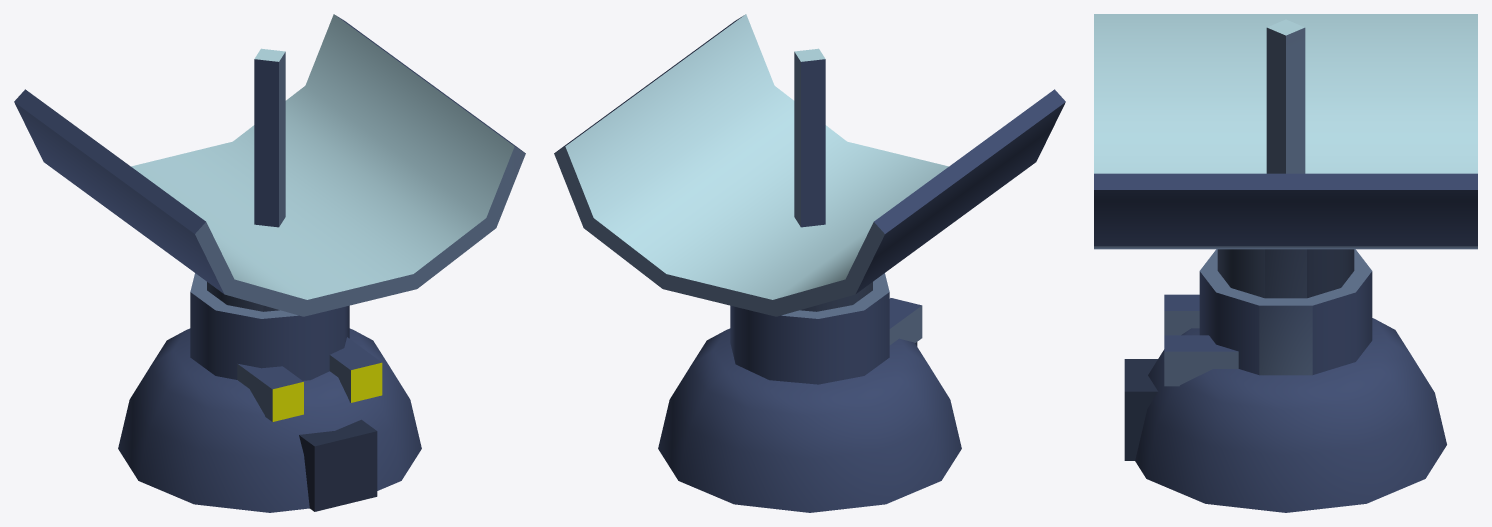
Rendered from Lab.SilverClaw.glb.
3 renders of one model, left to right at view 1: azimuth 30°, elevation 25°; view 2: azimuth 150°, elevation 25°; view 3: azimuth 270°, elevation 25°, orthographic. The views are drawn at different scales.
Parts seen in each view (by area): view 1: Lab.SilverClaw; view 2: Lab.SilverClaw; view 3: Lab.SilverClaw.
Part boxes in pixels (box(x1,y1,x2,y2)): Lab.SilverClaw: box(14, 14, 525, 512); Lab.SilverClaw: box(554, 14, 1065, 512); Lab.SilverClaw: box(1094, 14, 1477, 512).
Size of the model in its own units: 2.11 by 2.41 by 2.
2 materials, 1 textured.
